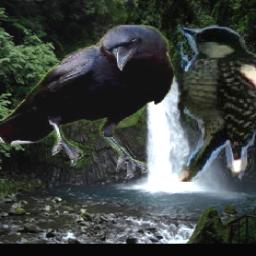Crow: (0, 25, 174, 179)
Woodpecker: (176, 26, 256, 183)
